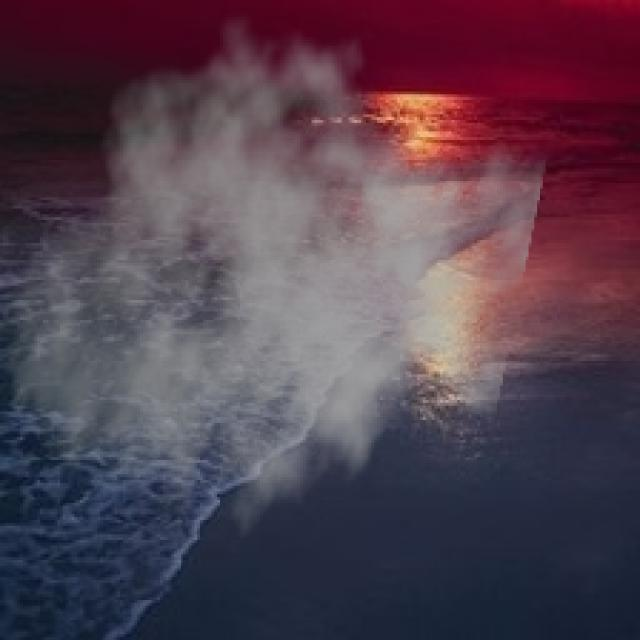smoke: (3, 11, 548, 560)
